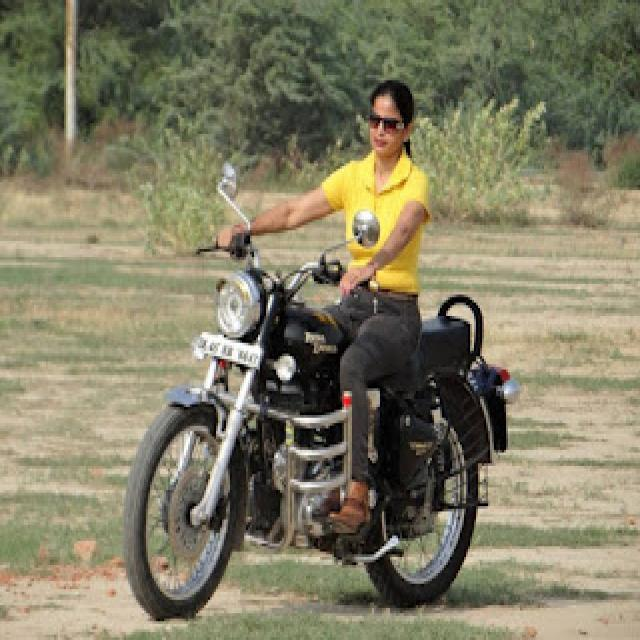Not Wearing Helmet: (285, 56, 460, 290)
